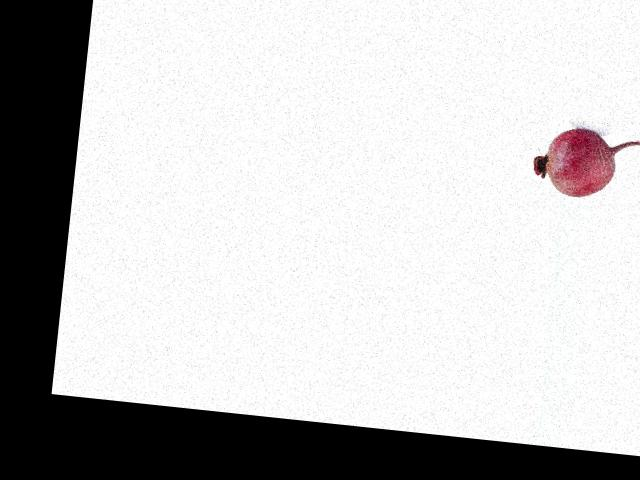beet: (531, 124, 640, 203)
